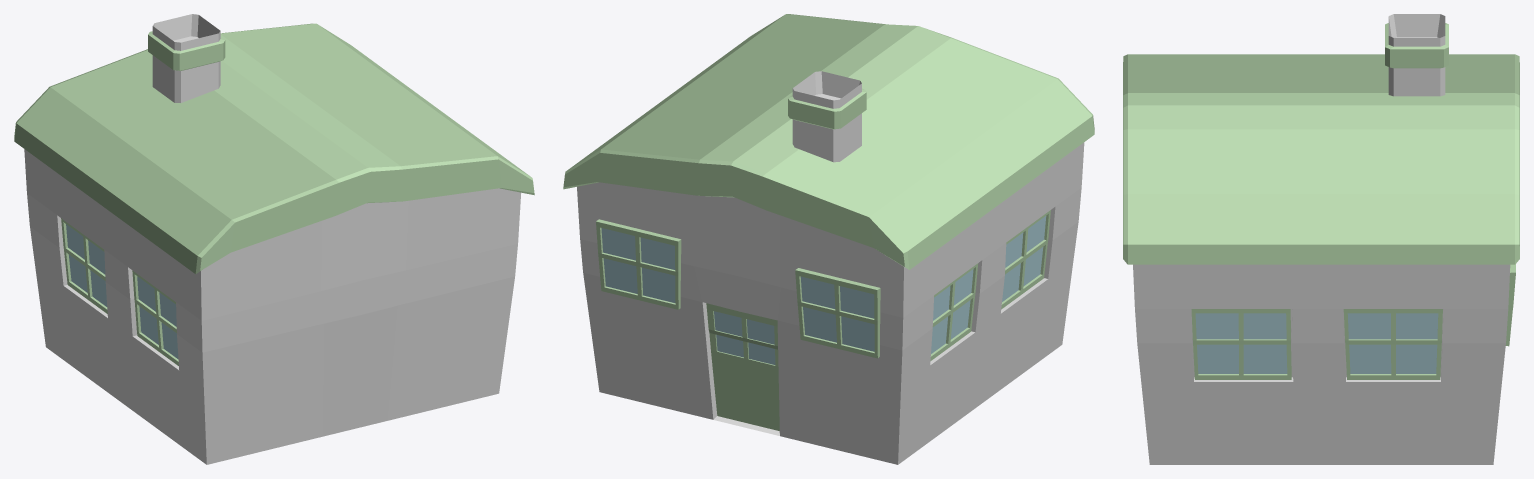
The model's file is house6.fbx.
3 renders of one model, left to right at view 1: azimuth 30°, elevation 25°; view 2: azimuth 150°, elevation 25°; view 3: azimuth 270°, elevation 25°, orthographic. The views are drawn at different scales.
Parts seen in each view (by area): view 1: polySurface177; view 2: polySurface177; view 3: polySurface177.
Boxes of the visible parts, x1,y1,x2,y2 form: polySurface177: [14, 14, 534, 464]; polySurface177: [563, 14, 1094, 464]; polySurface177: [1123, 14, 1519, 464].
Bounding box in the file's own units: 2.64 × 2.38 × 2.5.
